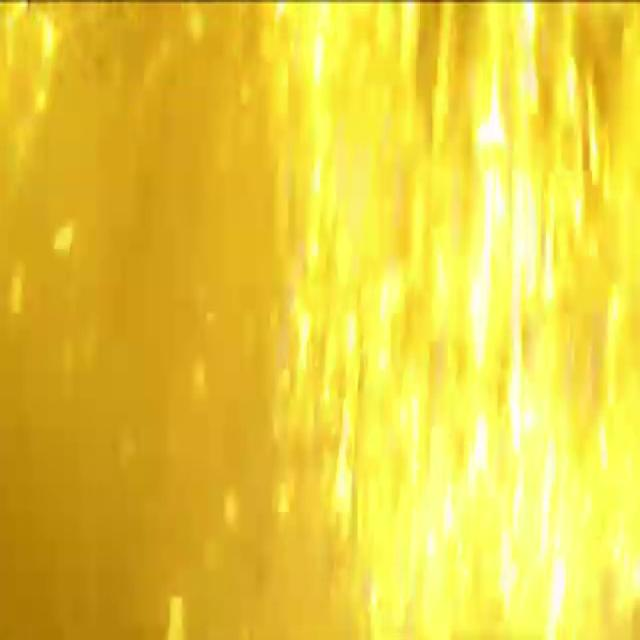fire: (252, 9, 636, 637)
